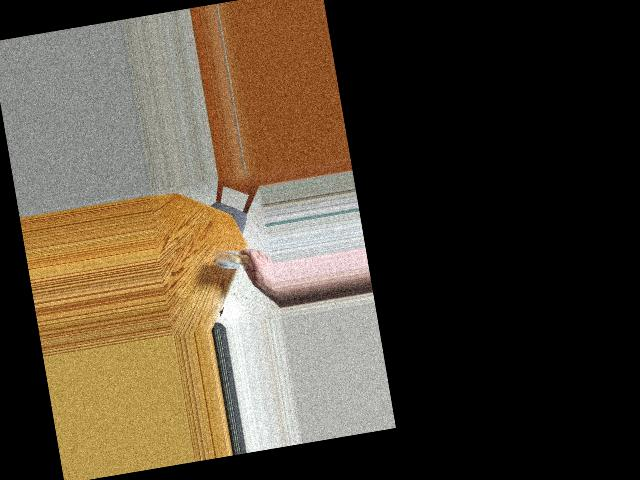cheese: (216, 244, 253, 280)
